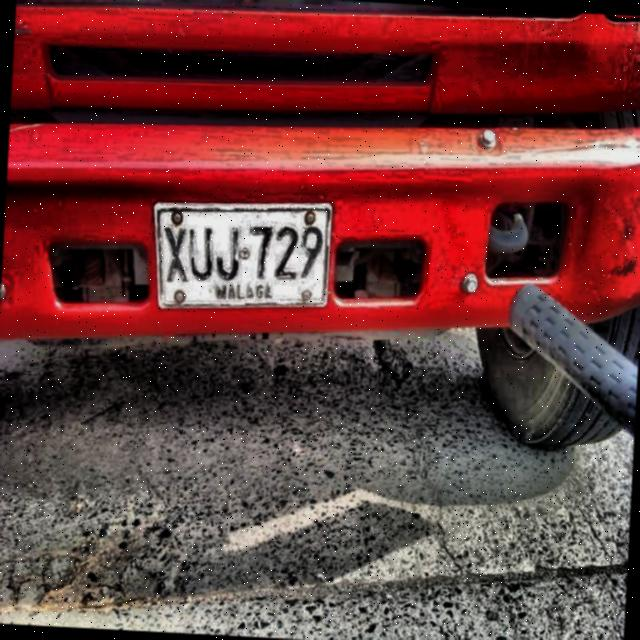plate: (156, 206, 329, 306)
